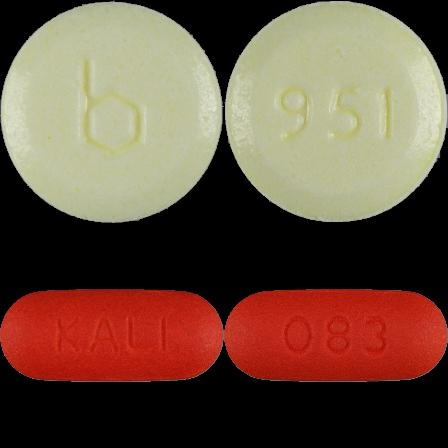54868-5286: (0, 0, 224, 224)
